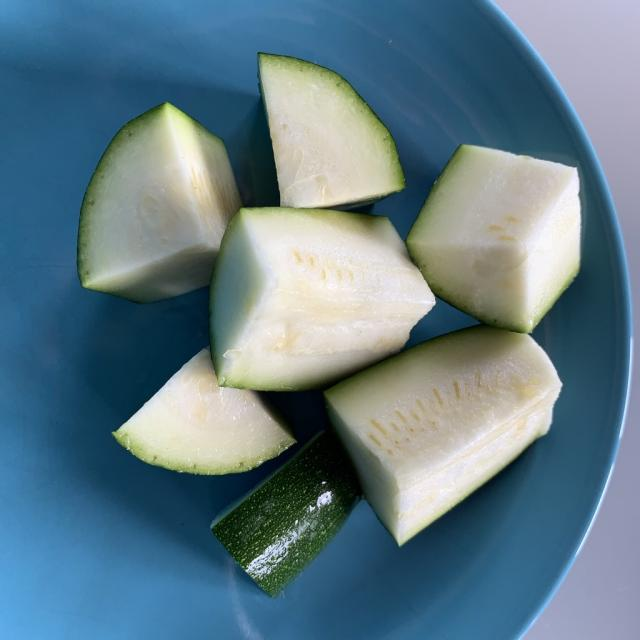zucchini: (87, 71, 574, 569)
